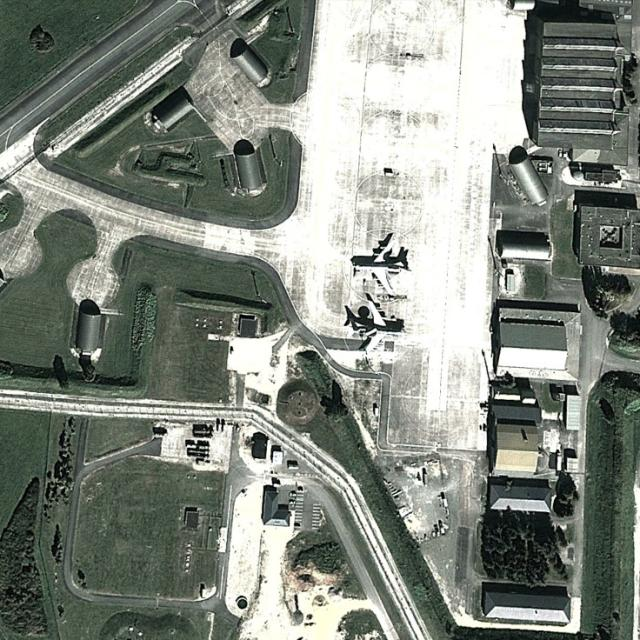fighter jet: (346, 230, 407, 291), (346, 296, 405, 353)
